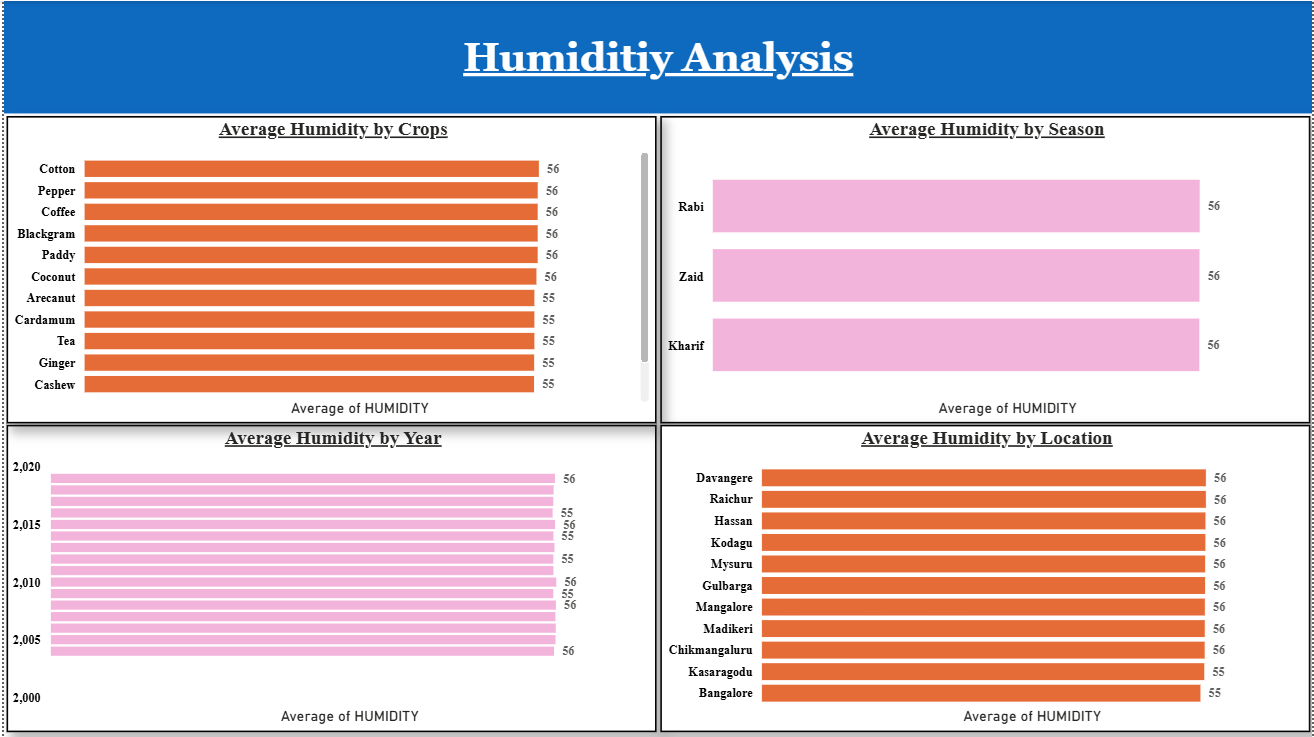

Layout of this report page (visuals, bound fields, positions):
{"tool":"powerbi","page":{"name":"Humidity Analysis","canvas":[1280,720],"ordinal":2},"visuals":[{"type":"shape","box":[0,0,1280,110],"z":0},{"type":"barChart","title":"Average Humidity by Year","fields":{"Category":["AGRICULTURE.YEAR"],"Y":["Avg(AGRICULTURE.HUMIDITY)"]},"box":[2,415,636,301],"z":1000},{"type":"barChart","title":"Average Humidity by Season","fields":{"Category":["AGRICULTURE.SEASON"],"Y":["Avg(AGRICULTURE.HUMIDITY)"]},"box":[642,112,636,301],"z":2000},{"type":"barChart","title":"Average Humidity by Crops","fields":{"Category":["AGRICULTURE.CROPS"],"Y":["Avg(AGRICULTURE.HUMIDITY)"]},"box":[2,112,636,301],"z":3000},{"type":"barChart","title":"Average Humidity by Location","fields":{"Category":["AGRICULTURE.LOCATION"],"Y":["Avg(AGRICULTURE.HUMIDITY)"]},"box":[642,415,636,301],"z":4000}]}

Visuals, with their boxes in screenshot pixels (x1, y1, x2, y2), scaled from the page's 1280x720 canvas onto the 1314x737 screenshot:
shape: region(0, 0, 1313, 113)
"Average Humidity by Year" barChart: region(2, 425, 655, 733)
"Average Humidity by Season" barChart: region(659, 115, 1312, 423)
"Average Humidity by Crops" barChart: region(2, 115, 655, 423)
"Average Humidity by Location" barChart: region(659, 425, 1312, 733)
